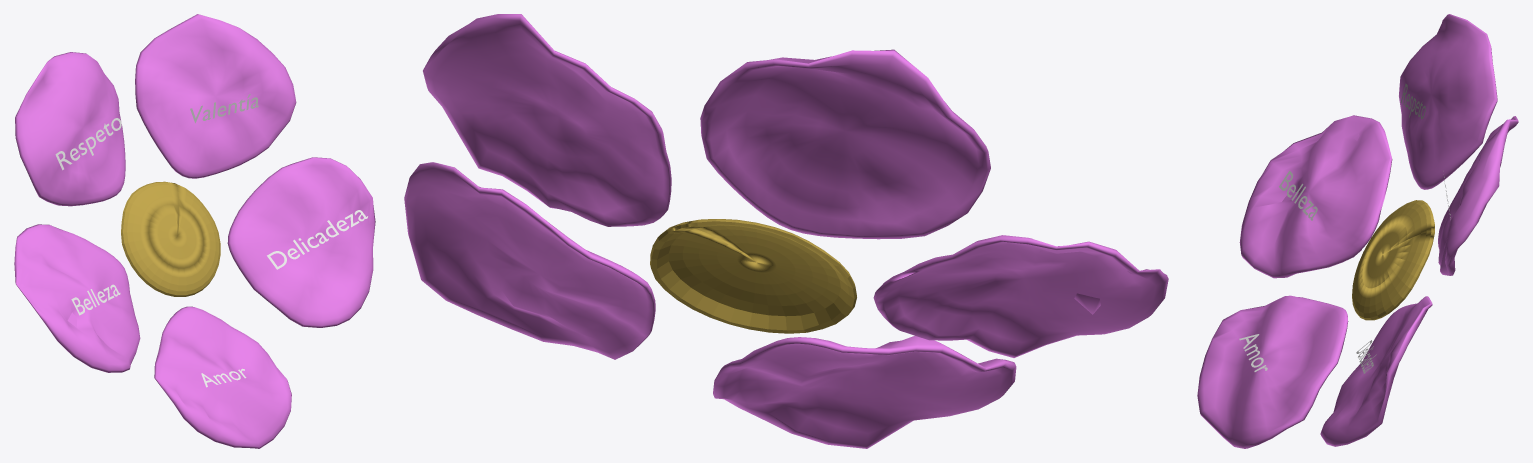
Rendered from flower01.glb.
3 views of the same model, side by side, from view 1: azimuth 30°, elevation 25°; view 2: azimuth 150°, elevation 25°; view 3: azimuth 270°, elevation 25° (orthographic). The views are drawn at different scales.
Visible parts, largest first — view 1: Esfera.005, Esfera.006, Esfera.002, Esfera.004, Esfera.003, Esfera.001, Texto.004, Texto, Texto.001, Texto.002; view 2: Esfera.004, Esfera.005, Esfera.006, Esfera.003, Esfera.002, Esfera.001; view 3: Esfera.003, Esfera.002, Esfera.004, Esfera.001, Esfera.006, Esfera.005, Texto.002.
Part boxes in pixels (x1=…): Esfera.005: x1=135, y1=14, x2=296, y2=178; Esfera.006: x1=227, y1=157, x2=375, y2=327; Esfera.002: x1=154, y1=306, x2=291, y2=448; Esfera.004: x1=15, y1=52, x2=125, y2=206; Esfera.003: x1=14, y1=224, x2=140, y2=372; Esfera.001: x1=121, y1=181, x2=220, y2=296; Texto.004: x1=267, y1=210, x2=367, y2=269; Texto: x1=55, y1=118, x2=121, y2=170; Texto.001: x1=190, y1=94, x2=258, y2=123; Texto.002: x1=71, y1=284, x2=120, y2=315; Esfera.004: x1=700, y1=49, x2=990, y2=239; Esfera.005: x1=423, y1=14, x2=671, y2=226; Esfera.006: x1=404, y1=162, x2=655, y2=359; Esfera.003: x1=873, y1=235, x2=1168, y2=357; Esfera.002: x1=713, y1=336, x2=1016, y2=448; Esfera.001: x1=650, y1=219, x2=856, y2=333; Esfera.003: x1=1239, y1=115, x2=1392, y2=278; Esfera.002: x1=1197, y1=295, x2=1348, y2=448; Esfera.004: x1=1399, y1=14, x2=1497, y2=189; Esfera.001: x1=1352, y1=200, x2=1434, y2=320; Esfera.006: x1=1320, y1=296, x2=1432, y2=446; Esfera.005: x1=1438, y1=116, x2=1518, y2=275; Texto.002: x1=1279, y1=170, x2=1317, y2=220.
Size of the model in its own units: 45.4 by 37.02 by 29.59.
